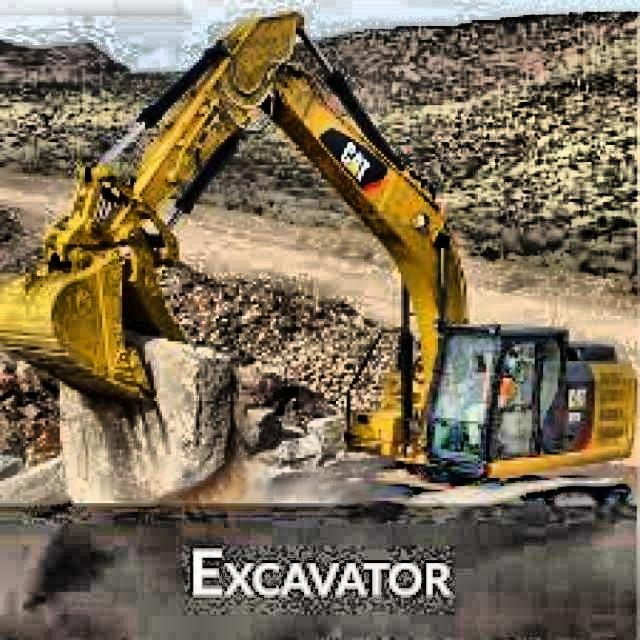bull_dozer/loader/grader: (0, 11, 640, 506)
person: (466, 354, 518, 447)
